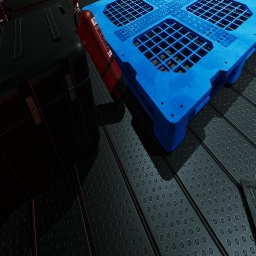FireExtinguisher ]: (73, 0, 128, 104)
FirstAidBox ,: (0, 0, 12, 25)
